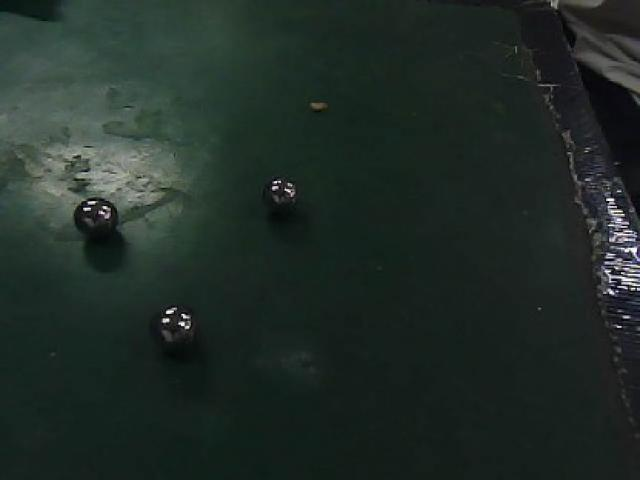steel-ball: (51, 177, 128, 252), (136, 296, 212, 356), (252, 162, 317, 223)
